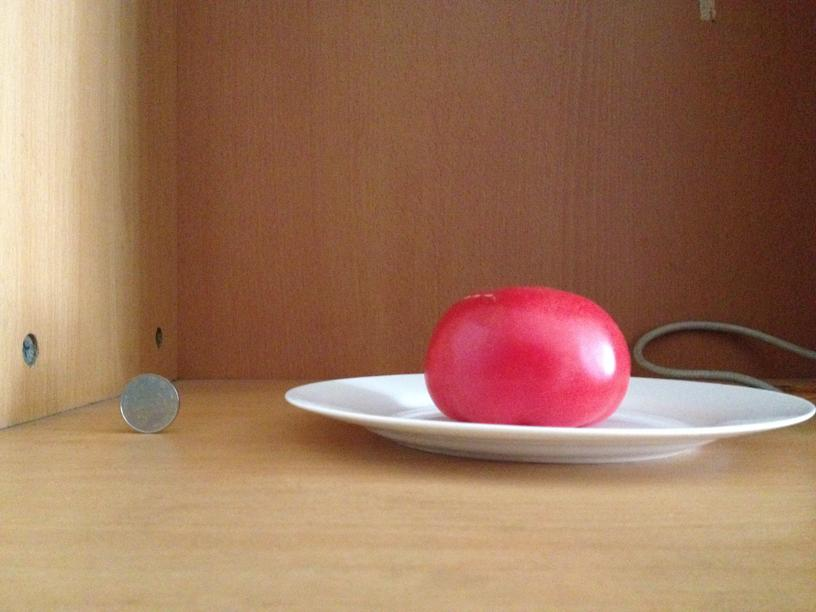coin: (119, 373, 178, 434)
tomato: (427, 289, 632, 427)
